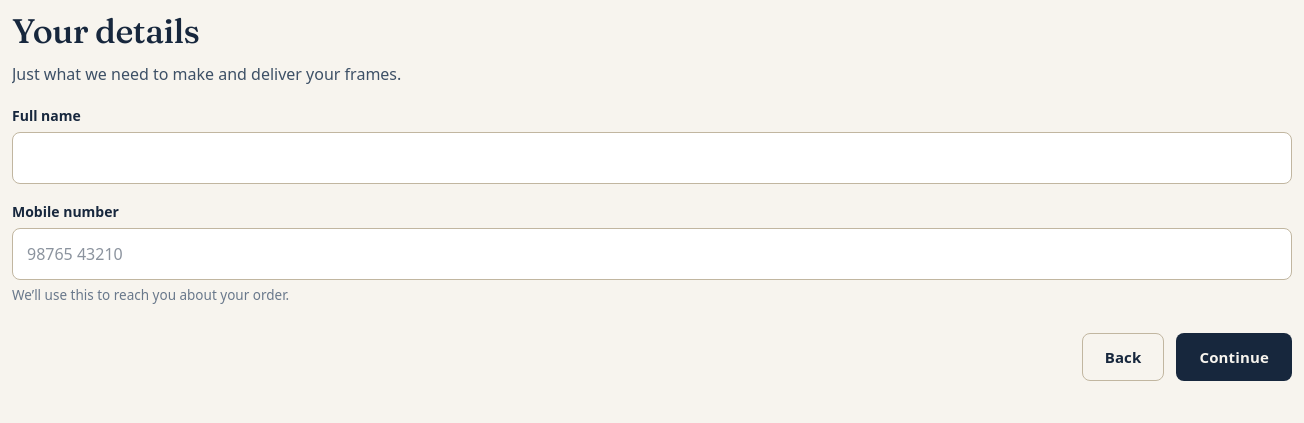
Test case: Details › asks in plain words, only after the customer tries to continue
Check: the text "Please enter your name." is not shown
Click the button with test id "details-continue": (1234, 357) [1176, 333, 1292, 381]
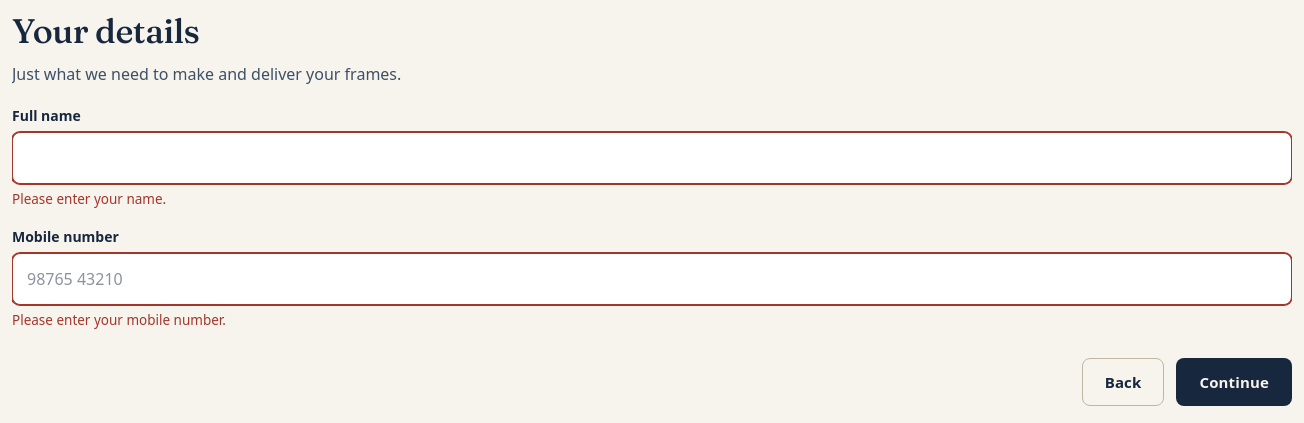
Check: the text "Please enter your name." is shown, box [12, 190, 166, 208]
Check: the text "Please enter your mobile number." is shown, box [12, 311, 226, 329]
